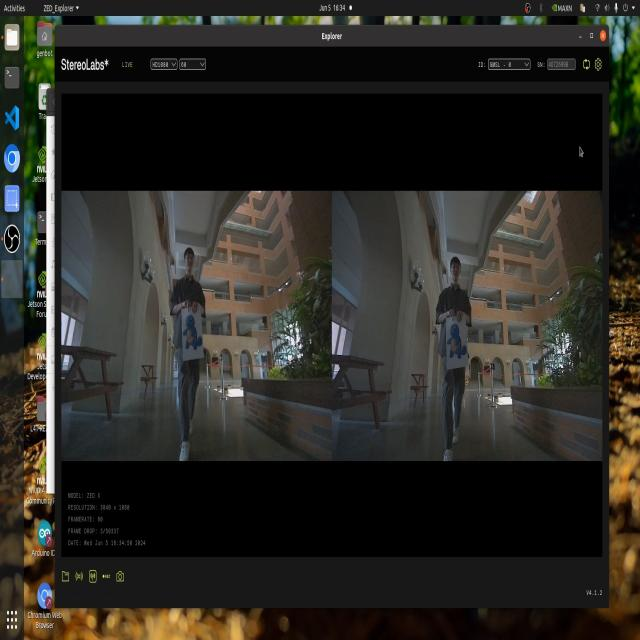blue: (180, 305, 202, 354), (445, 319, 469, 360)
